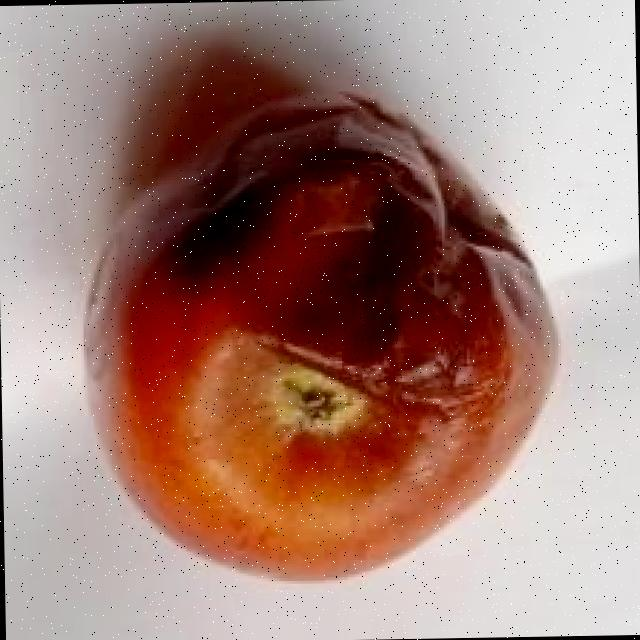rotten apple: (51, 56, 582, 607)
